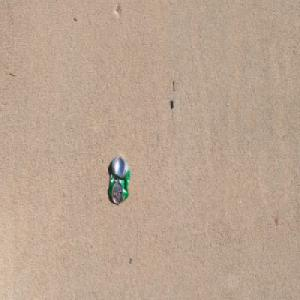SodaCan: (108, 155, 130, 205)
